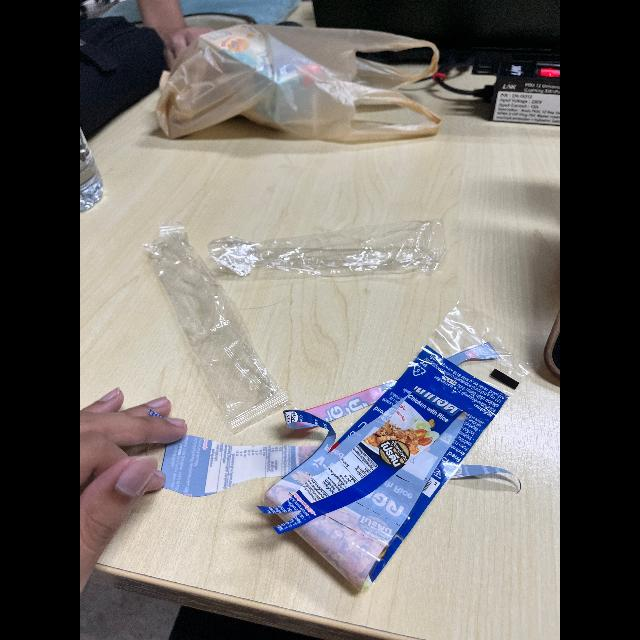scrap_plastic: (269, 317, 527, 578), (163, 226, 277, 418), (218, 208, 454, 296)
